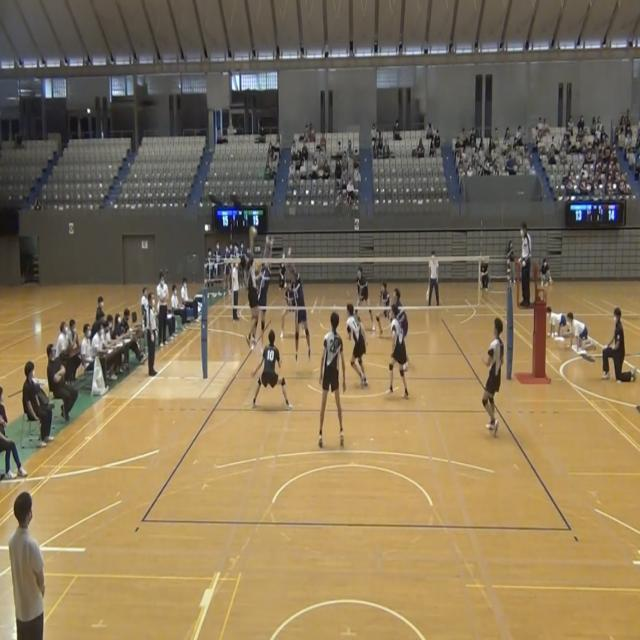spike: (238, 220, 264, 356)
